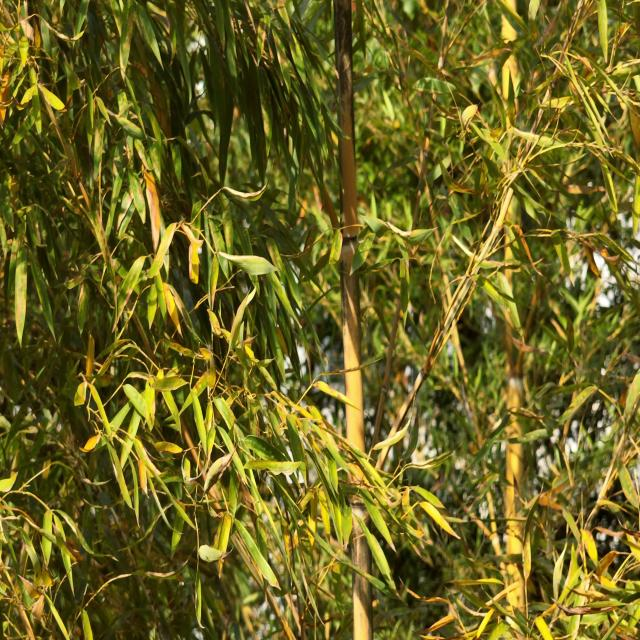Bamboo-shoots: (334, 0, 374, 640)
